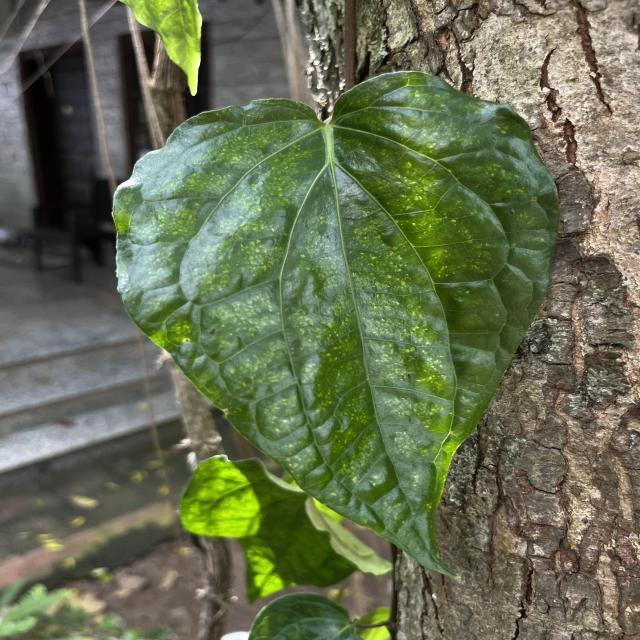Piper betle: (109, 63, 564, 584)
